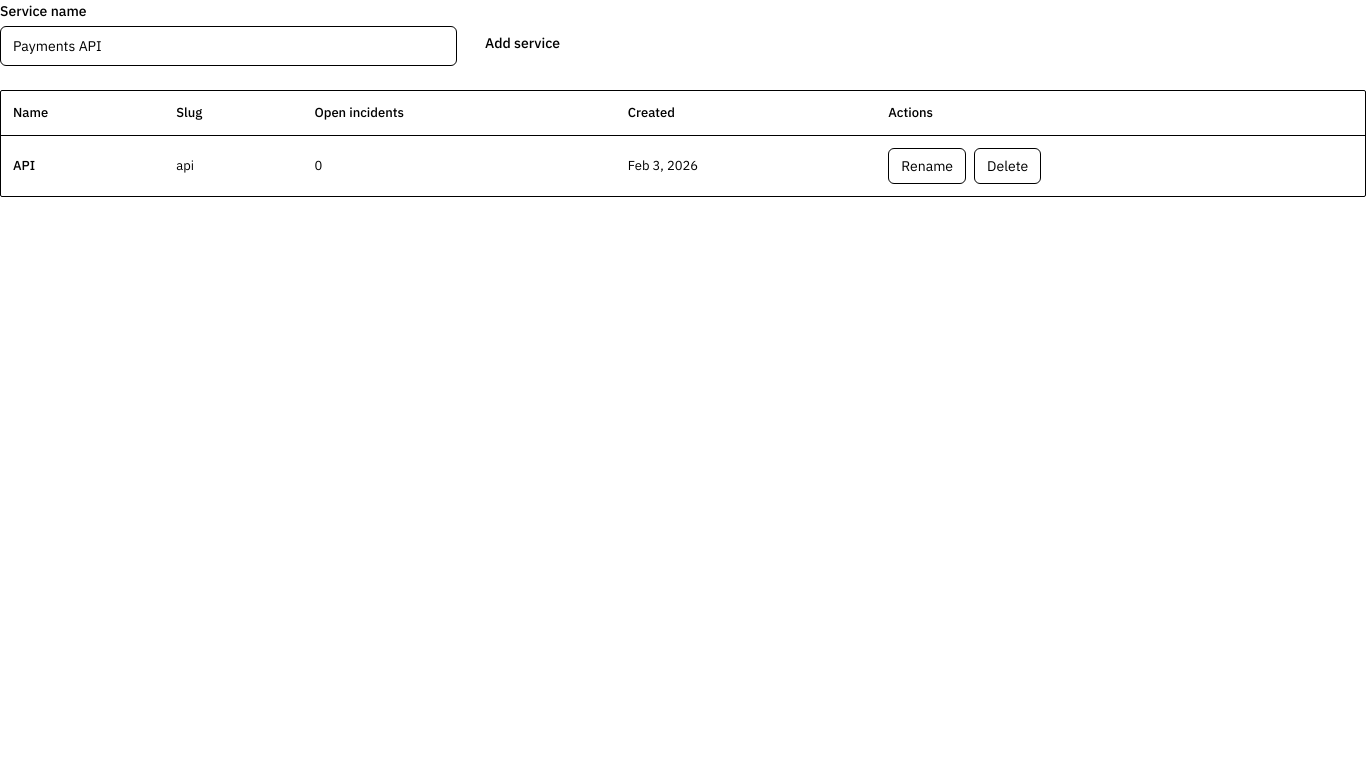
Test: renaming › starts from the current name each time and cancel changes nothing
The image size is (1366, 768).
Click the button "Rename": [927, 166] box [888,148,966,184]
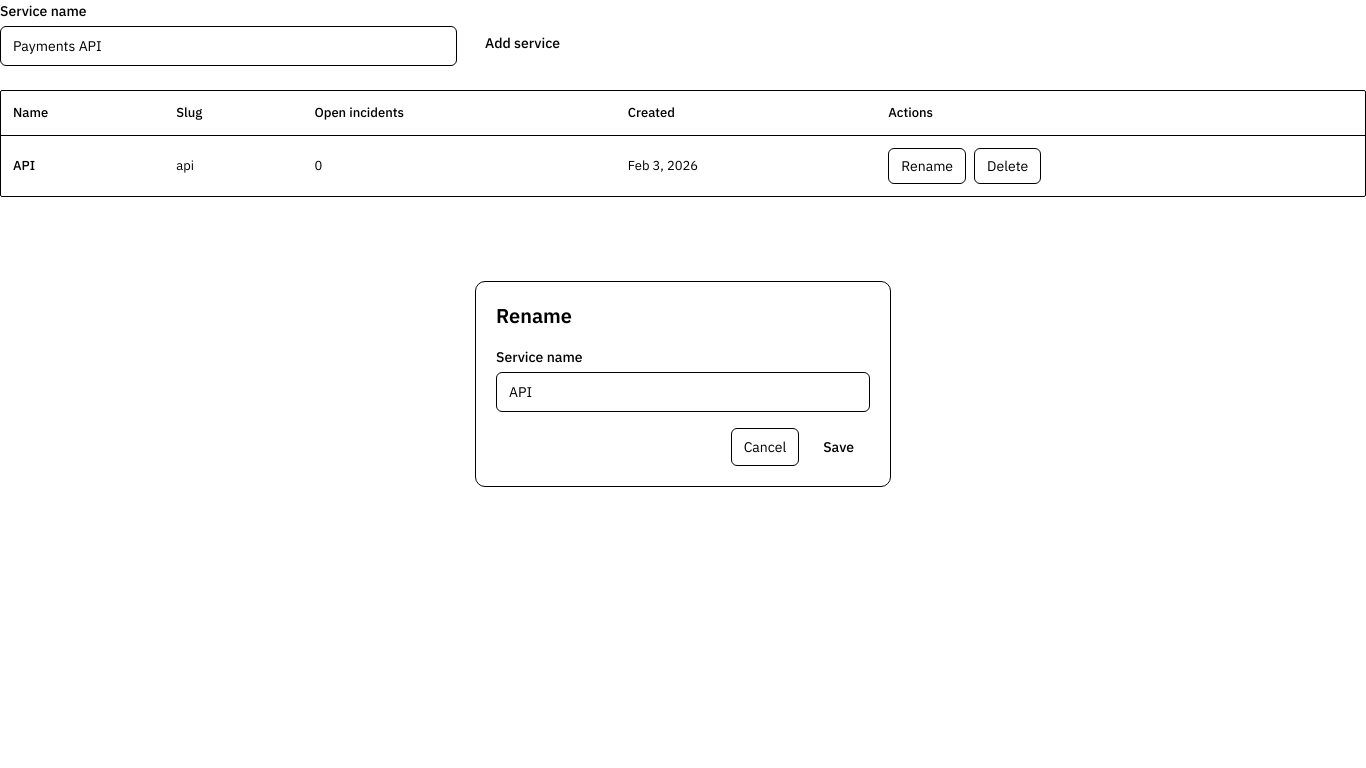
Replace the text in the field labelled "Service name" with "Edited": [683, 392] box [496,372,870,412]
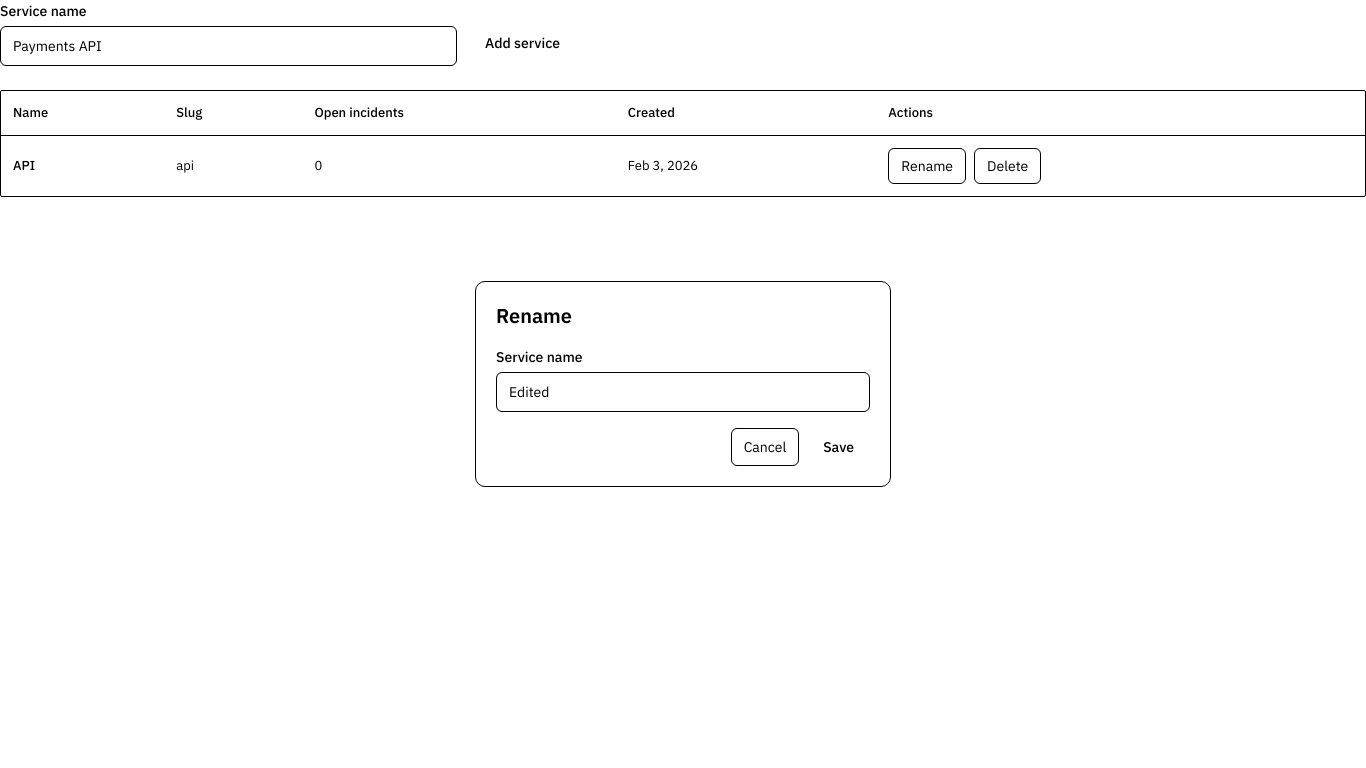
Click the button "Cancel": [765, 447] box [731,428,799,466]
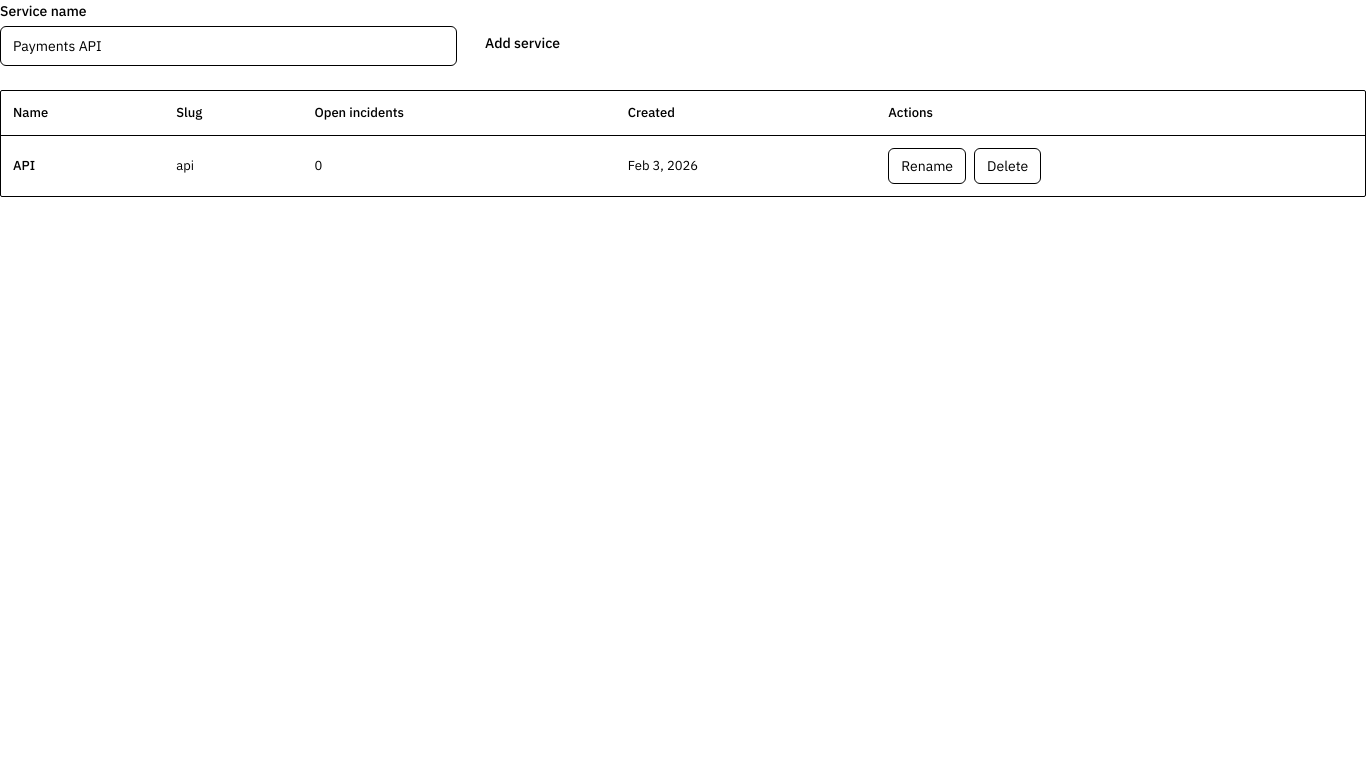
Expected: the dialog is gone
Click the button "Rename": [927, 166] box [888,148,966,184]
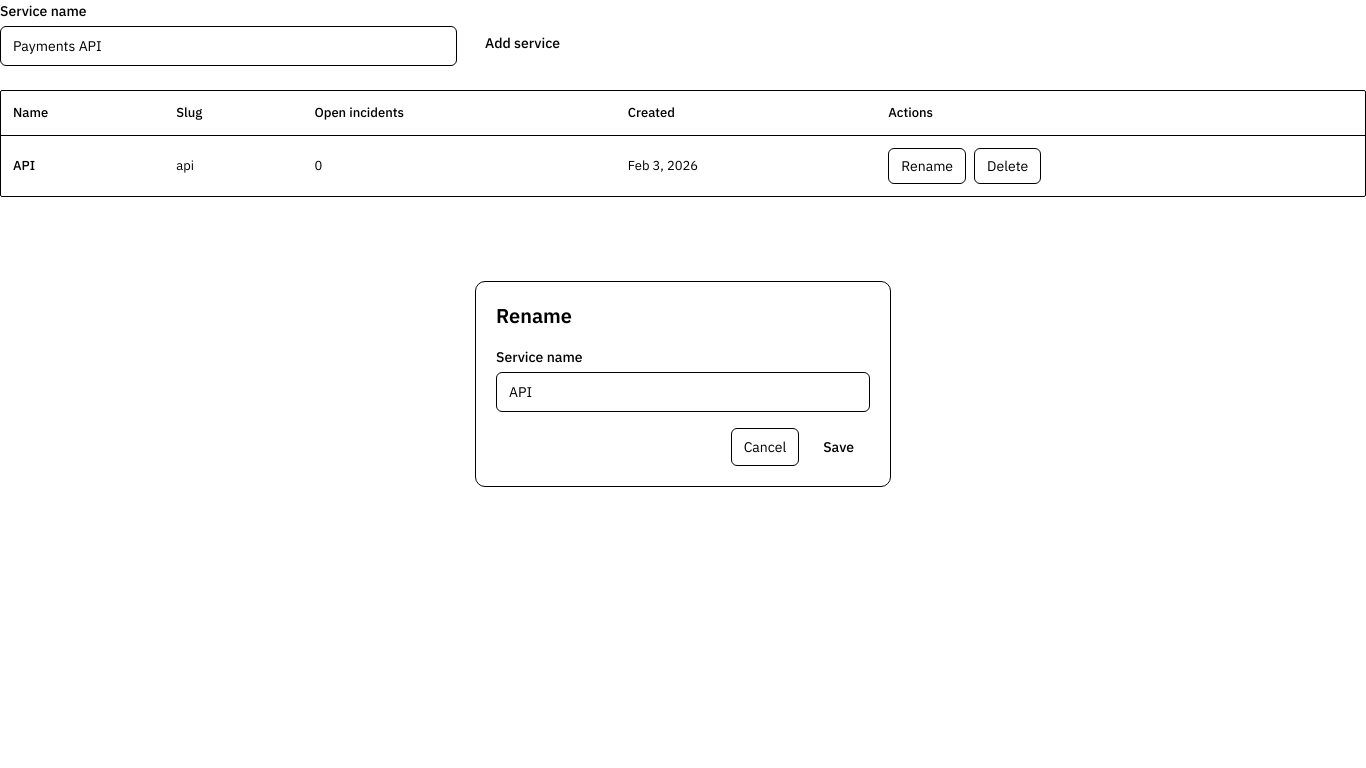
Expected: the field labelled "Service name" holds "API", [496,372,870,412]
